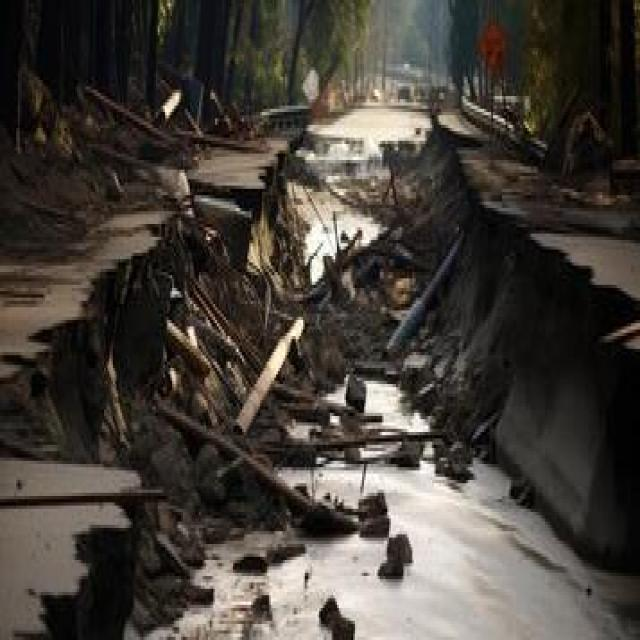road collapse: (30, 102, 640, 640)
